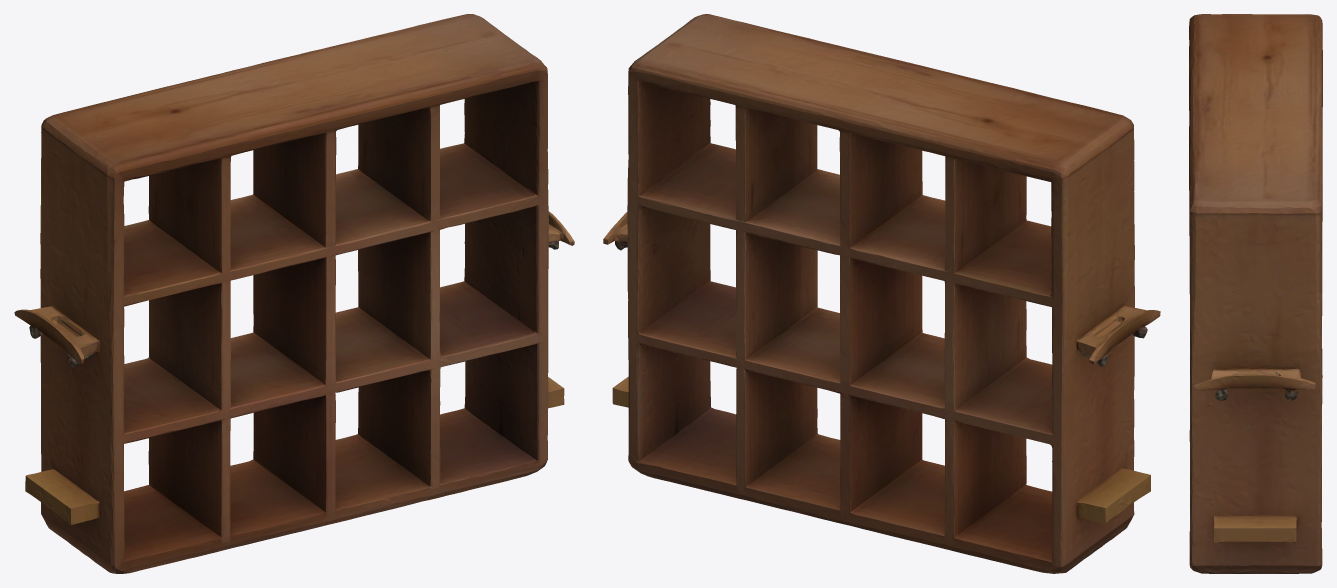
File: ast_696c30f84af4.glb
3 views of the same model, side by side, from view 1: azimuth 30°, elevation 25°; view 2: azimuth 150°, elevation 25°; view 3: azimuth 270°, elevation 25° (orthographic). The views are drawn at different scales.
Parts seen in each view (by area): view 1: geometry_0; view 2: geometry_0; view 3: geometry_0.
Part boxes in pixels (bbox=[...]): geometry_0: bbox=[14, 14, 574, 573]; geometry_0: bbox=[603, 14, 1160, 573]; geometry_0: bbox=[1189, 14, 1322, 573].
Size of the model in its own units: 1 by 0.7957 by 0.259.
1 material, 1 textured.
